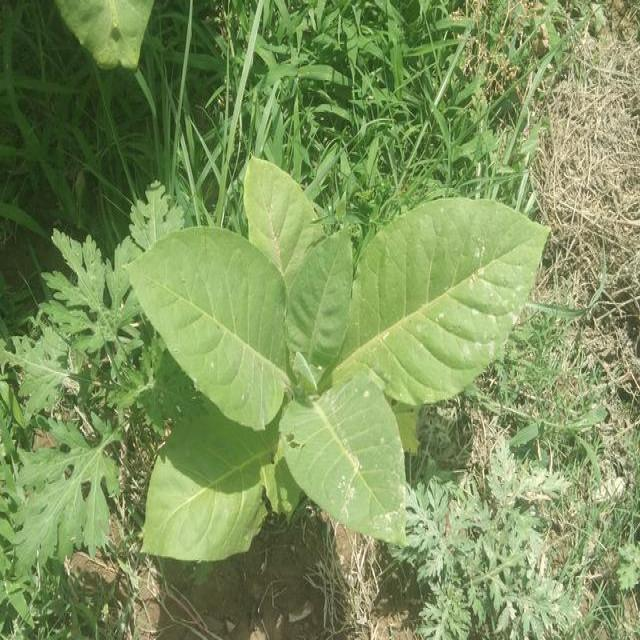crop: (122, 156, 554, 564)
